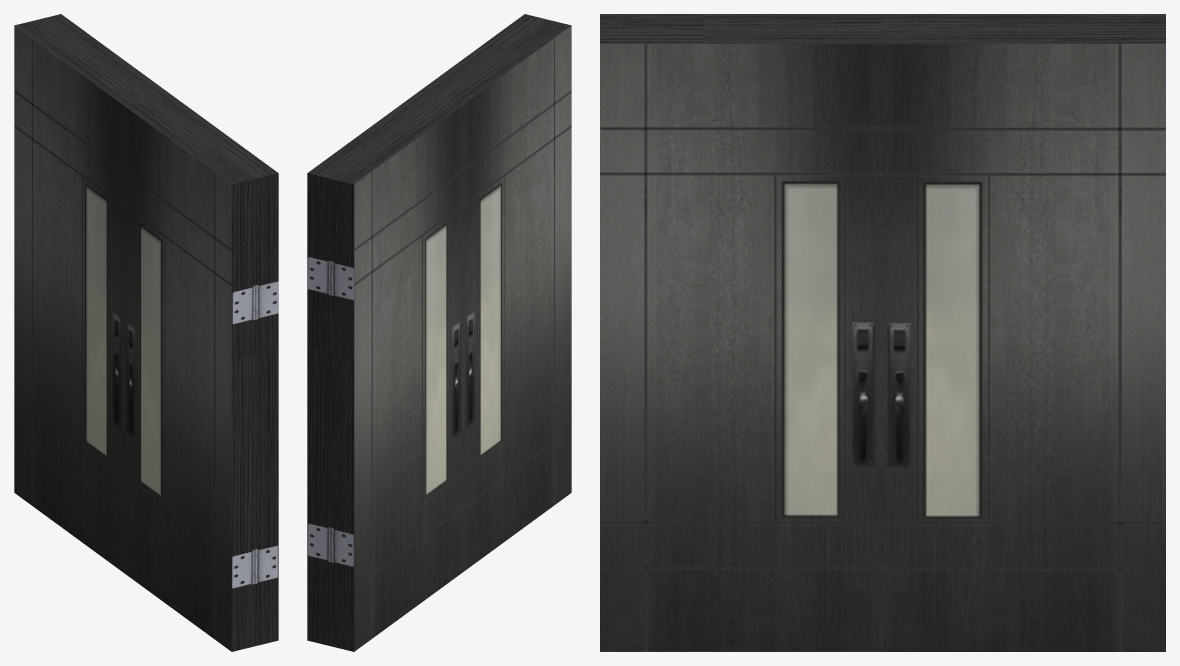
Rendered from Puerta_VC_TH.fbx.
The picture shows the model from 3 angles, left to right: view 1: azimuth 30°, elevation 25°; view 2: azimuth 150°, elevation 25°; view 3: azimuth 270°, elevation 25°; orthographic projection. The views are drawn at different scales.
Visible parts, largest first — view 1: Puerta1_VC_TH, Puerta2_VC_TH; view 2: Puerta2_VC_TH, Puerta1_VC_TH; view 3: Puerta2_VC_TH, Puerta1_VC_TH.
Boxes of the visible parts, bbox=[...] form: Puerta1_VC_TH: bbox=[124, 94, 278, 651]; Puerta2_VC_TH: bbox=[14, 14, 170, 572]; Puerta2_VC_TH: bbox=[307, 93, 463, 651]; Puerta1_VC_TH: bbox=[417, 14, 571, 571]; Puerta2_VC_TH: bbox=[881, 14, 1165, 651]; Puerta1_VC_TH: bbox=[600, 14, 880, 651].
Bounding box in the file's own units: 47.21 × 451 × 380.
2 materials, 2 textured.
